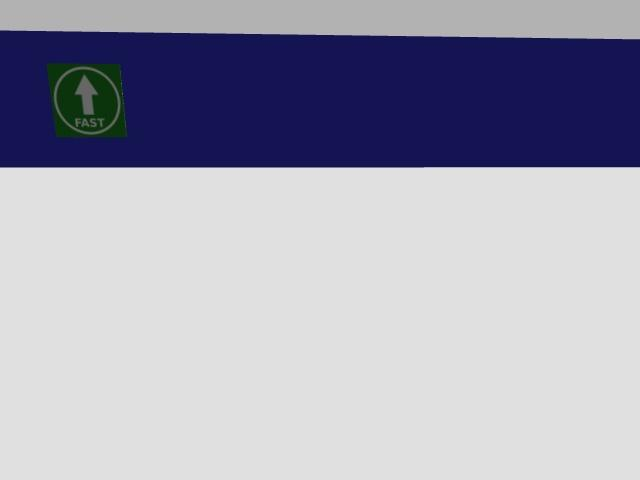fast: (47, 64, 126, 136)
